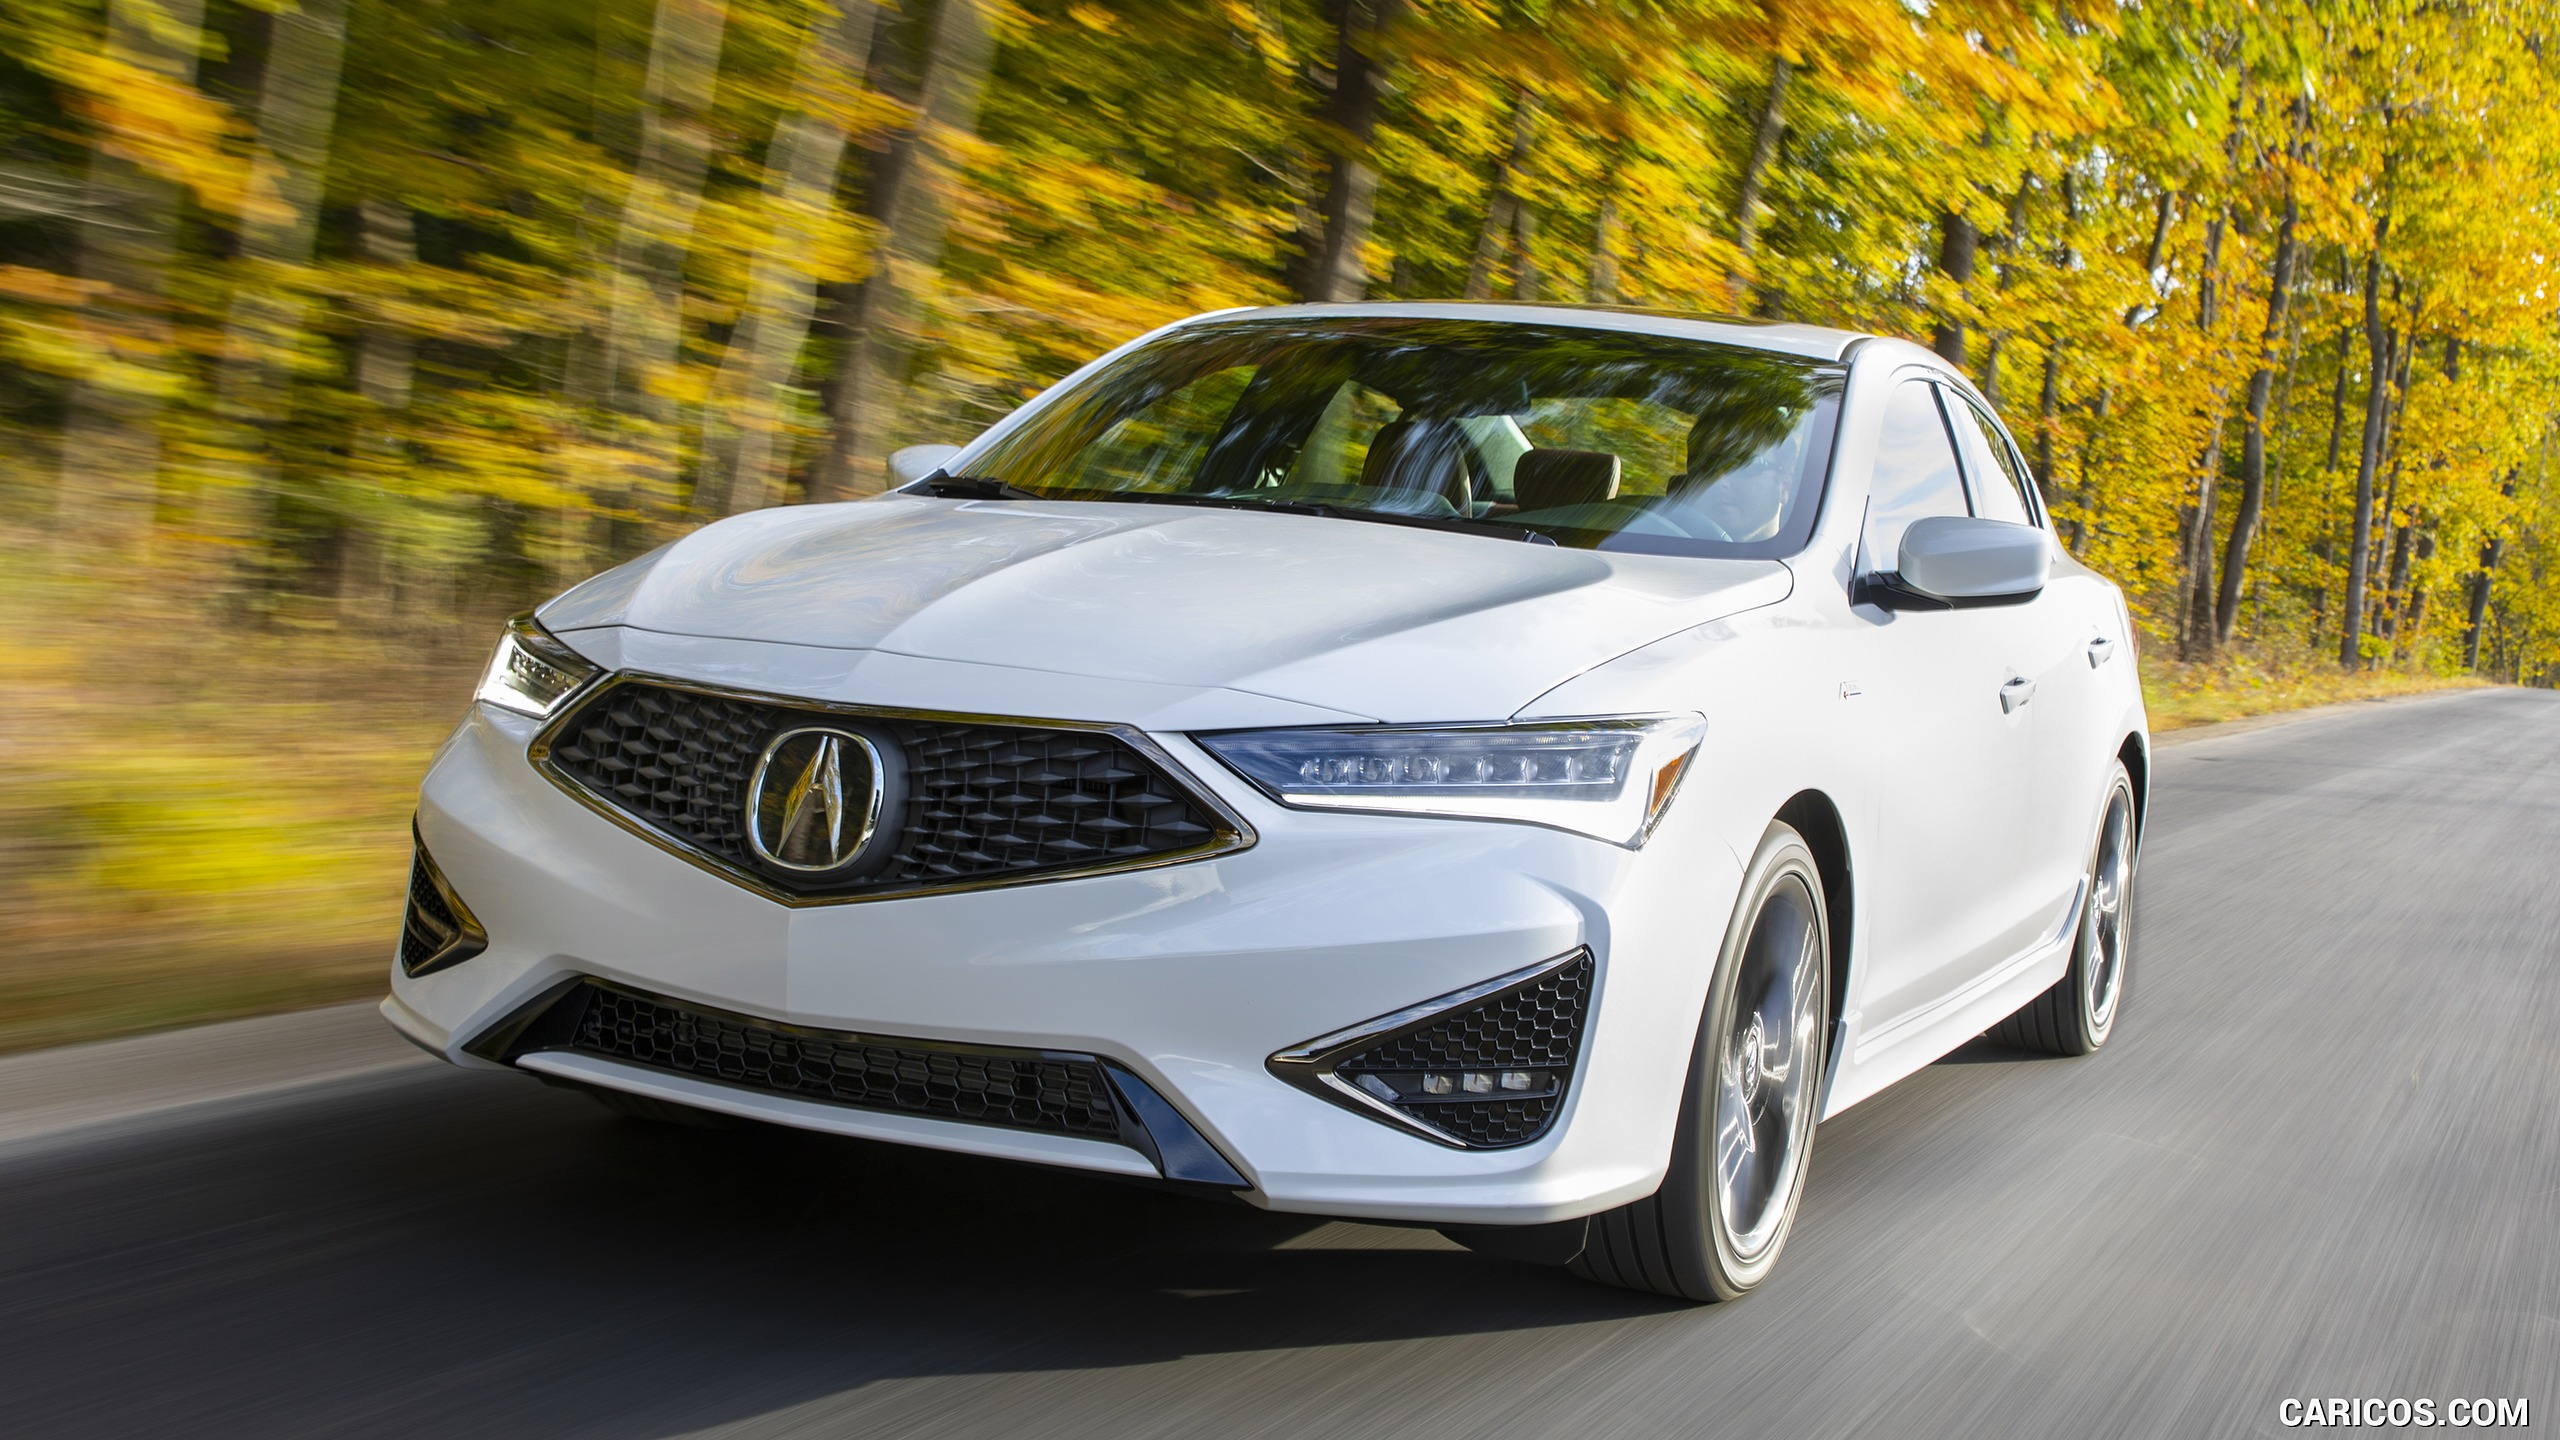Fog Lamp & Scope: (1320, 979, 1593, 1148)
Front: (408, 543, 1802, 1241)
Front Bumper: (383, 913, 1700, 1164)
Grill: (550, 721, 1194, 900)
Headlight: (1255, 714, 1720, 823)
